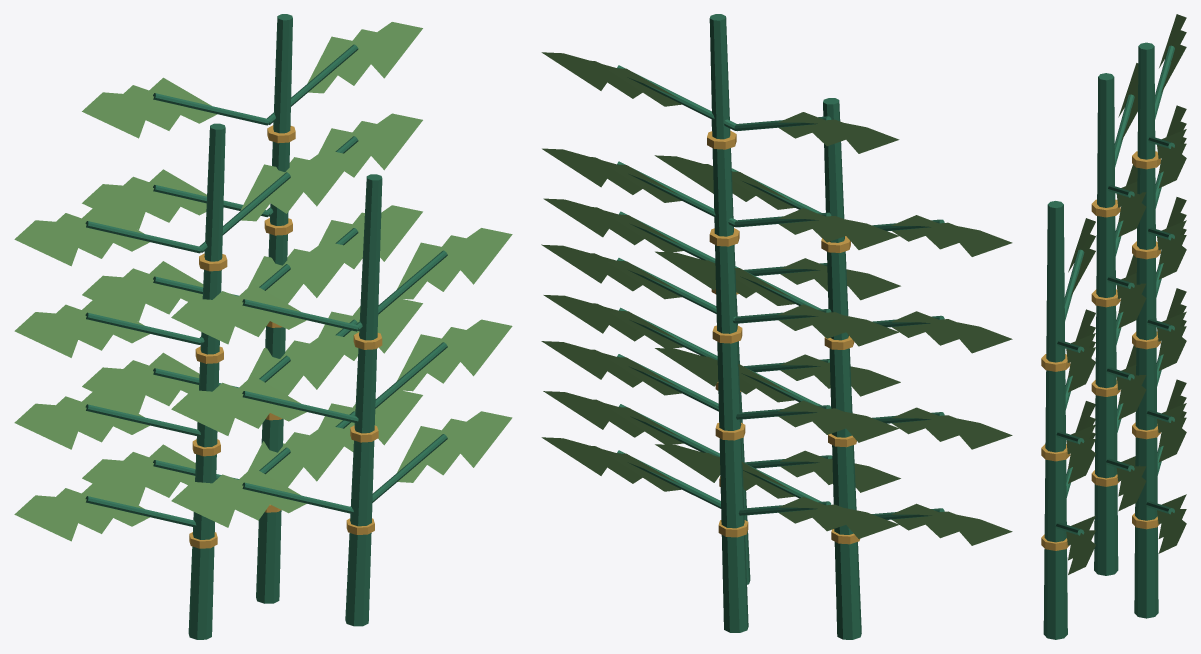
Rendered from bamboo_cluster.glb.
The picture shows the model from 3 angles, left to right: view 1: azimuth 30°, elevation 25°; view 2: azimuth 150°, elevation 25°; view 3: azimuth 270°, elevation 25°; orthographic projection. The views are drawn at different scales.
Parts seen in each view (by area): view 1: bamboo_cluster; view 2: bamboo_cluster; view 3: bamboo_cluster.
Boxes of the visible parts, x1,y1,x2,y2 form: bamboo_cluster: (14, 14, 512, 639); bamboo_cluster: (541, 14, 1012, 639); bamboo_cluster: (1041, 14, 1186, 639).
Size of the model in its own units: 5.4 by 6.31 by 1.45.
